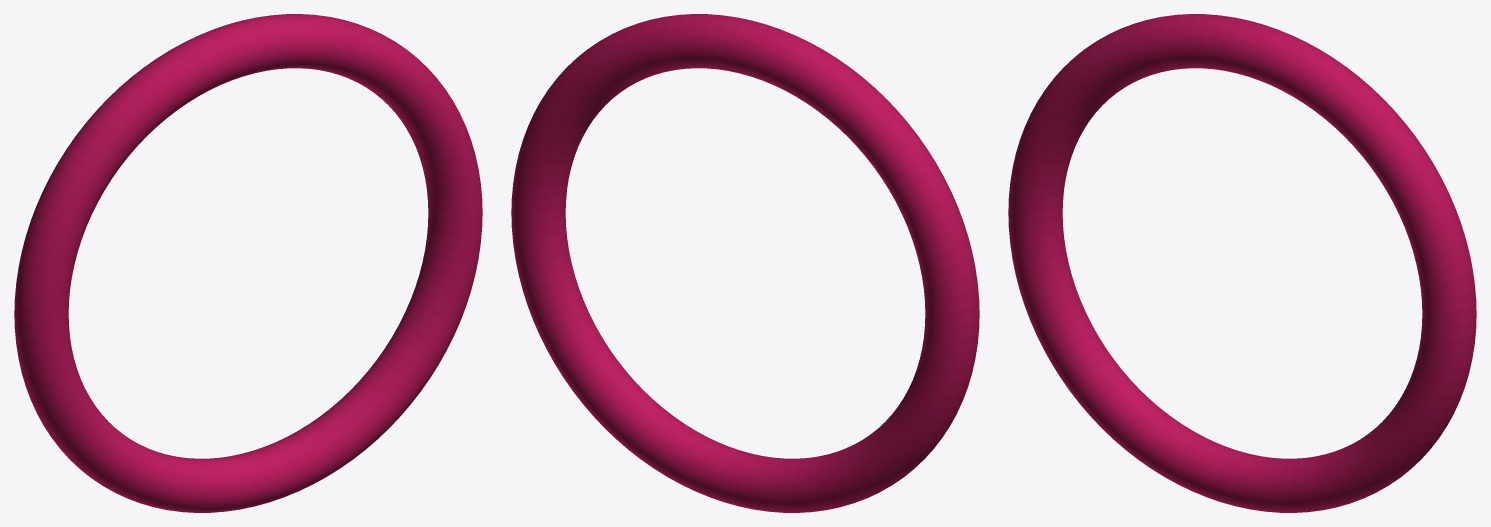
The picture shows the model from 3 angles, left to right: view 1: azimuth 30°, elevation 25°; view 2: azimuth 150°, elevation 25°; view 3: azimuth 330°, elevation 25°; orthographic projection.
Visible parts, largest first — view 1: world; view 2: world; view 3: world.
Boxes of the visible parts, x1=… form: world: x1=14, y1=14, x2=482, y2=512; world: x1=511, y1=14, x2=979, y2=512; world: x1=1008, y1=14, x2=1476, y2=512.
Size of the model in its own units: 32.67 by 32.67 by 3.33.
